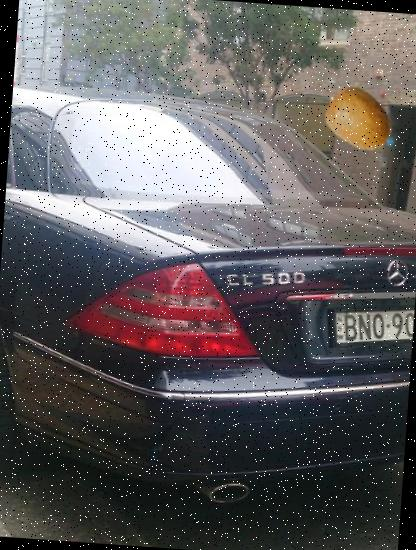Kiwi: (320, 82, 396, 158)
